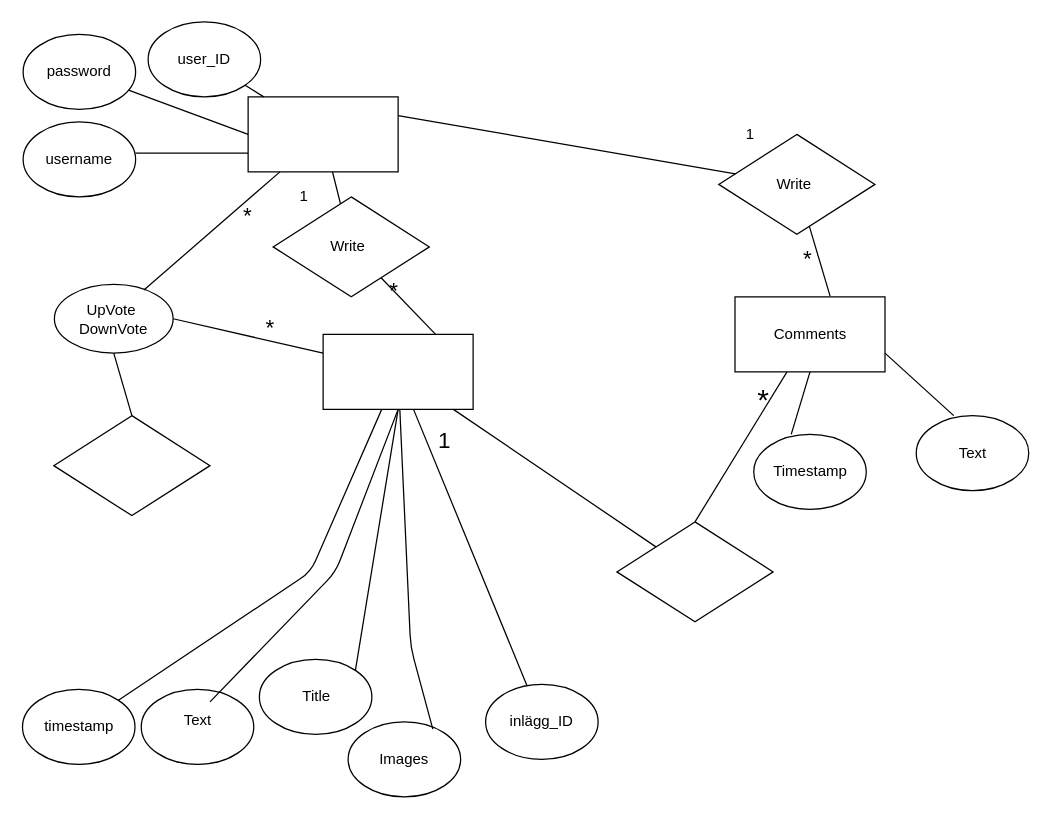
Image size: 1050x819. Some labels were removed from this diagram. The box of each missing label's shape, as (x1, y1, x2, y2) in pixels:
Belong: (616, 521, 773, 622)
Inlägg: (322, 333, 473, 409)
User: (247, 96, 398, 172)
Voted before: (52, 414, 210, 516)
